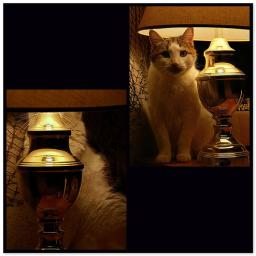catnose: (169, 60, 181, 68)
